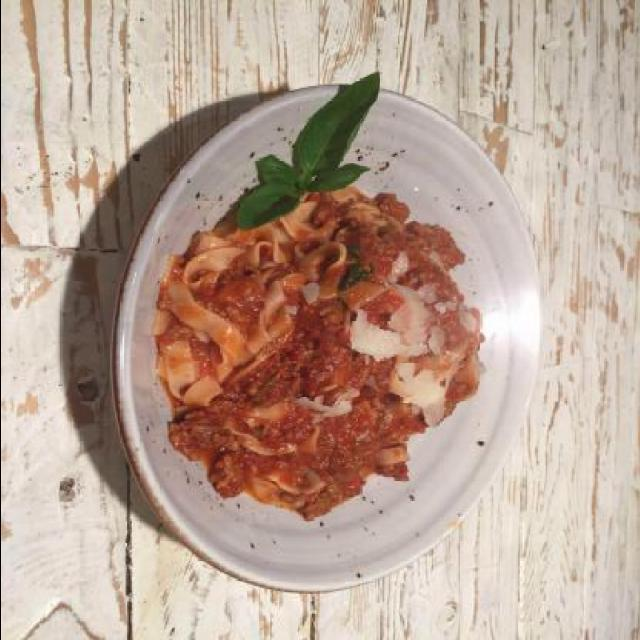Pasta al ragu: (150, 106, 521, 557)
